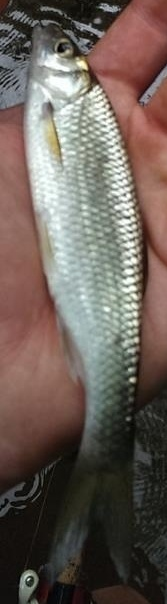Leuciscus leuciscus: (20, 20, 147, 584)
